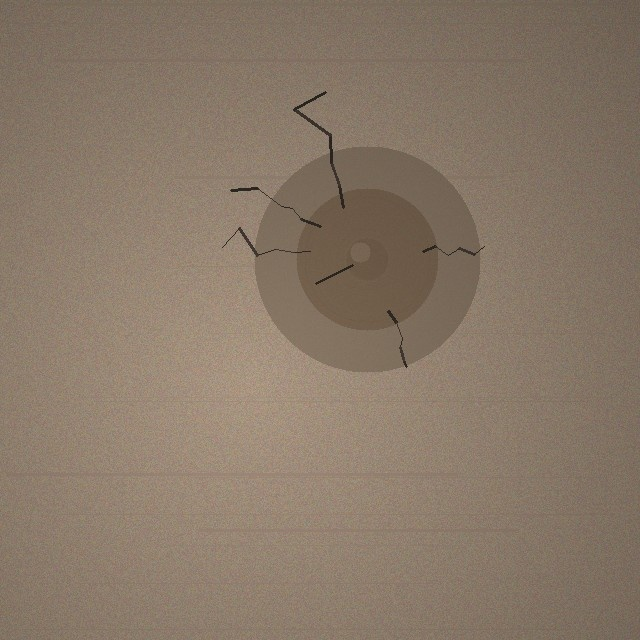crack: (254, 146, 480, 372)
